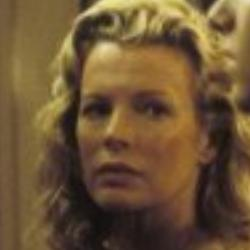face: (27, 1, 247, 236)
